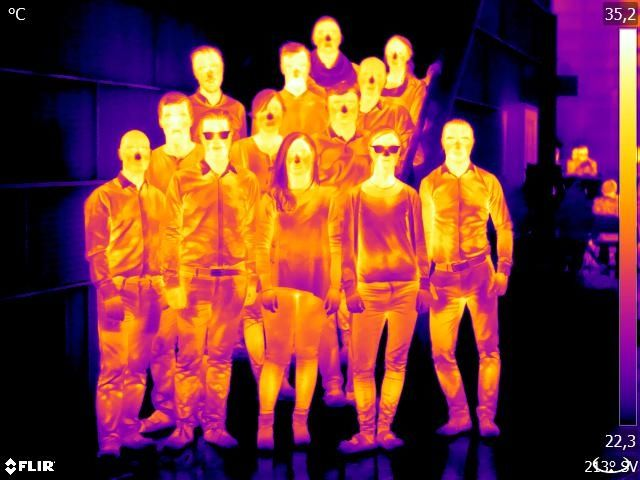person: (420, 111, 515, 440), (165, 109, 253, 451), (172, 43, 258, 389), (86, 127, 174, 453), (246, 128, 334, 454), (339, 124, 427, 450), (304, 81, 392, 407), (227, 82, 316, 404), (134, 82, 217, 426), (333, 54, 416, 357), (249, 40, 328, 352), (288, 10, 368, 305), (368, 31, 436, 284)
